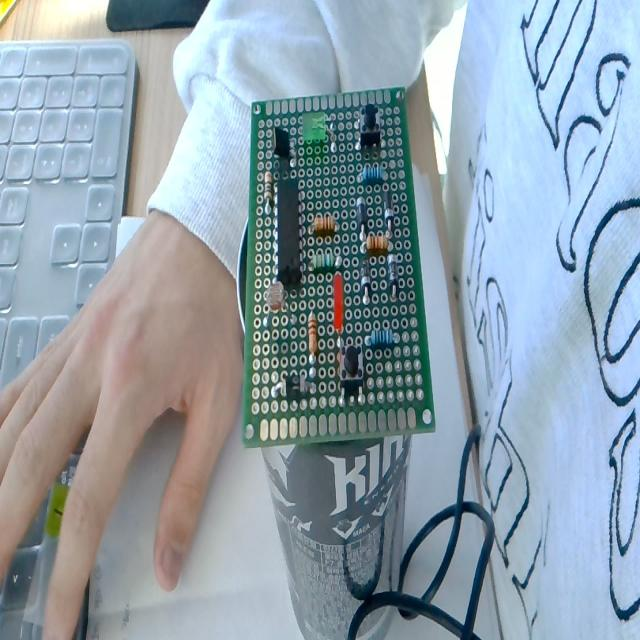IC: (275, 178, 301, 289)
cds: (262, 282, 295, 331)
diode: (279, 373, 315, 401), (383, 188, 395, 237), (356, 197, 368, 246), (388, 256, 399, 300), (360, 265, 371, 304)
led: (302, 108, 343, 154), (333, 272, 344, 375)
resistor: (308, 314, 320, 378), (366, 328, 396, 349), (365, 234, 388, 258), (311, 249, 335, 271), (361, 164, 383, 185), (313, 213, 335, 234), (264, 172, 274, 214)
switch: (339, 343, 365, 403), (356, 103, 381, 150)
transistor: (271, 121, 300, 175)
